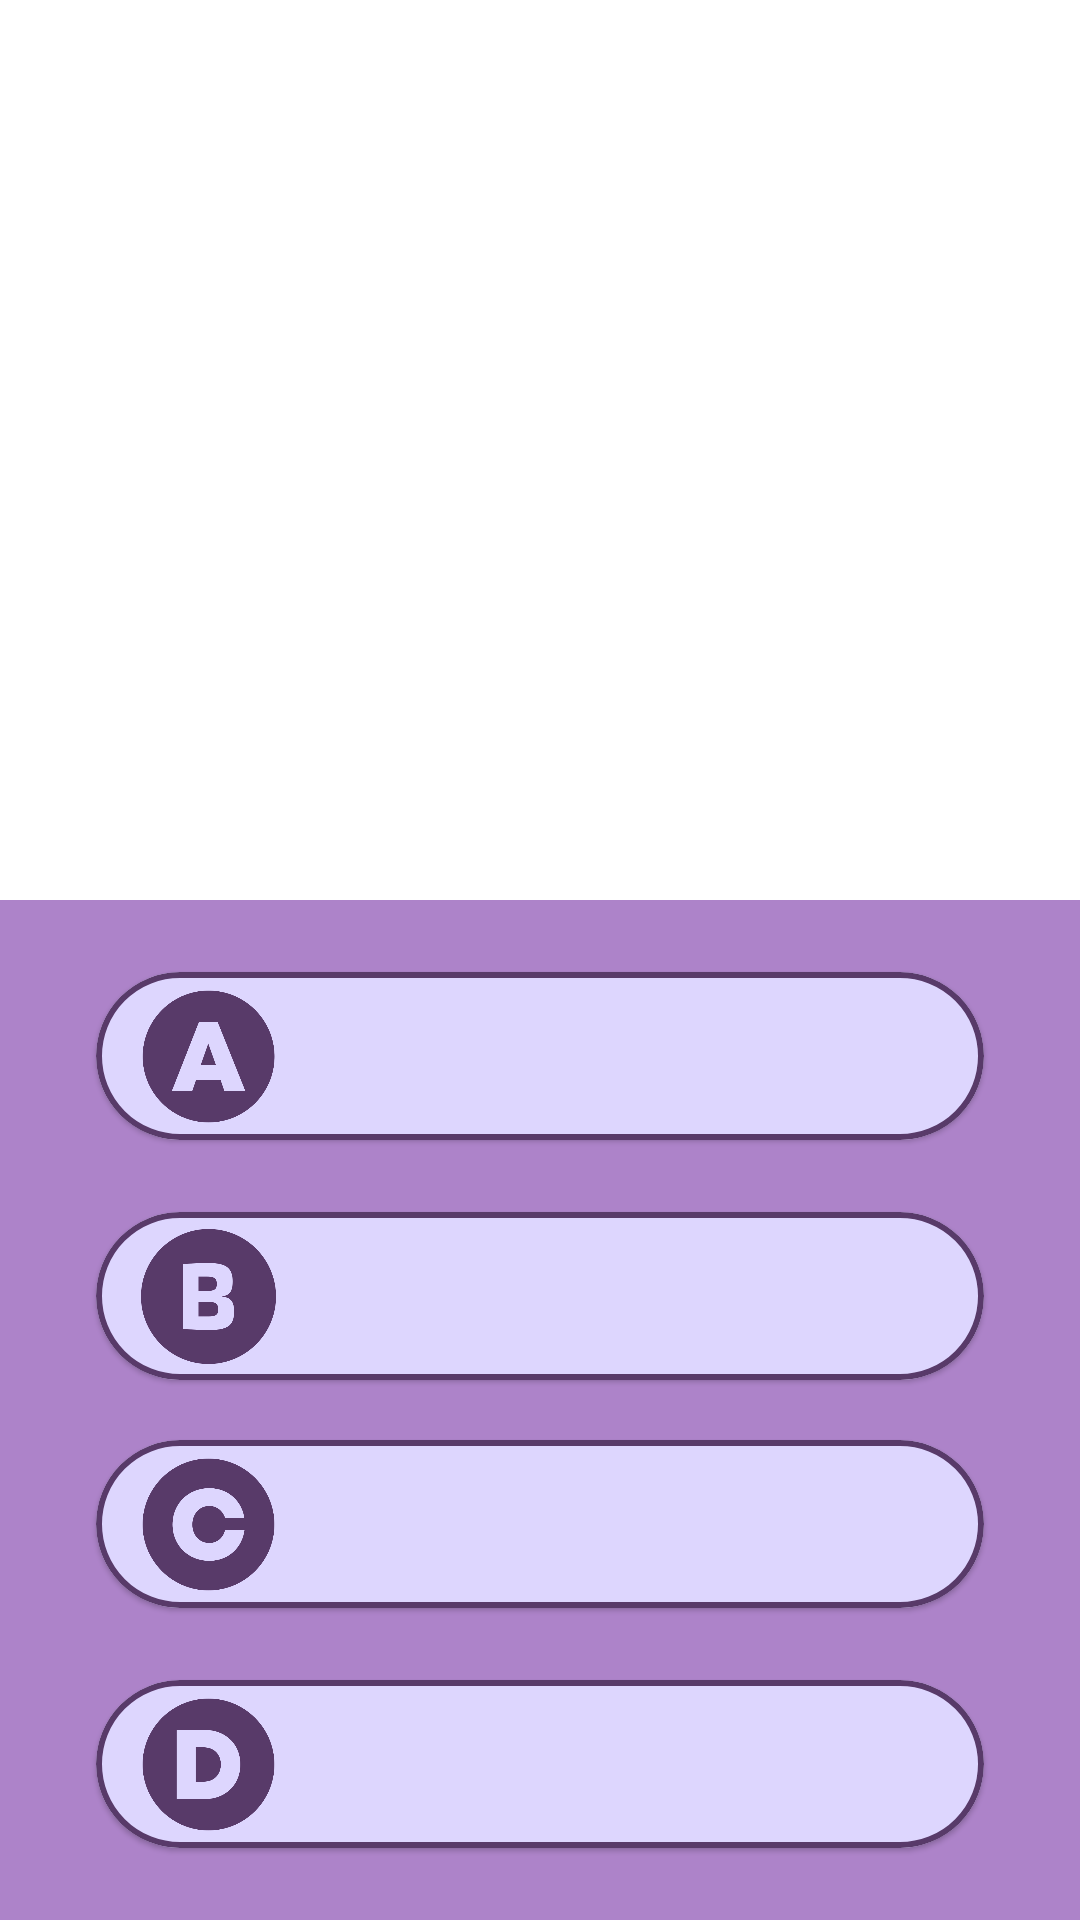

Locate icon controls on the screen. Image size 1080px x 1920px, boxes as (x1, y1, x2, y2).
Icon response A: (143, 990, 275, 1123)
Icon response B: (141, 1229, 276, 1364)
Icon response C: (142, 1458, 275, 1591)
Icon response D: (142, 1698, 275, 1831)
